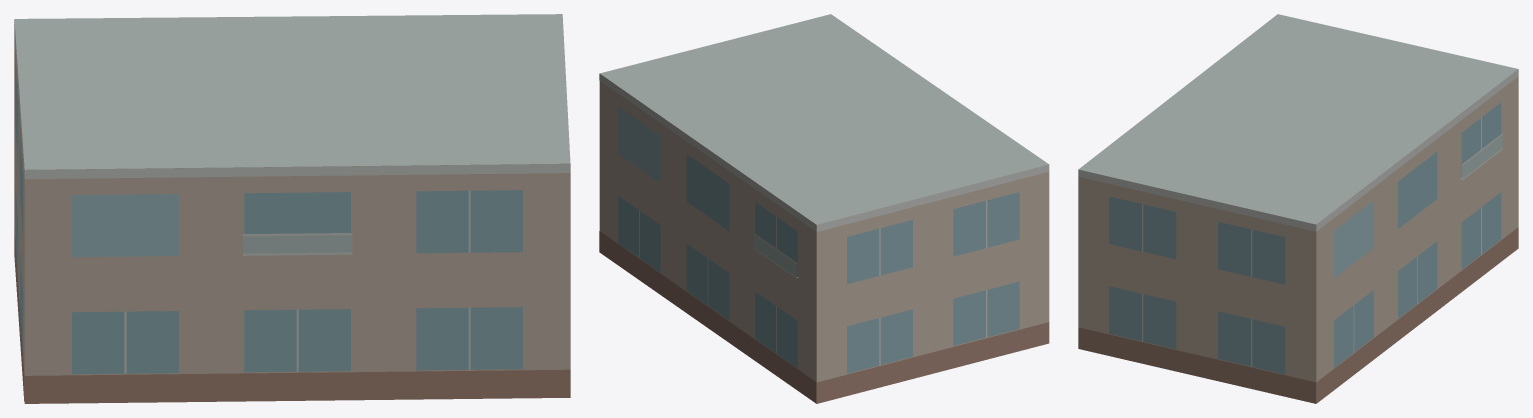
File: survey-upis-32680843.glb
3 views of the same model, side by side, from view 1: azimuth 30°, elevation 25°; view 2: azimuth 150°, elevation 25°; view 3: azimuth 270°, elevation 25° (orthographic). The views are drawn at different scales.
Visible parts, largest first — view 1: survey-upis-32680843.tmp; view 2: survey-upis-32680843.tmp; view 3: survey-upis-32680843.tmp.
Boxes of the visible parts, x1,y1,x2,y2 form: survey-upis-32680843.tmp: [14, 14, 570, 403]; survey-upis-32680843.tmp: [599, 14, 1049, 403]; survey-upis-32680843.tmp: [1078, 14, 1518, 403].
Size of the model in its own units: 15.37 by 6.1 by 13.59.
